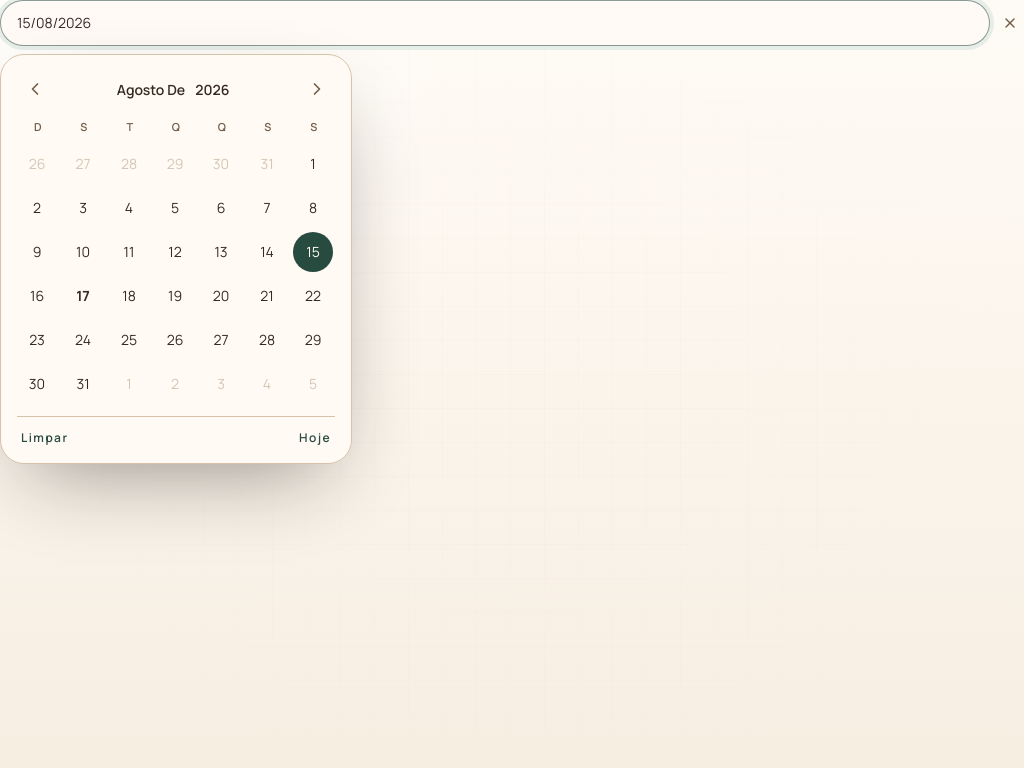
it: DatePickerField — interação real (jsdom) › navega pro próximo mês e pro mês anterior, atualizando o cabeçalho
The image size is (1024, 768).
Click the button named "Próximo mês" at (317,89), box [299,71,335,107]
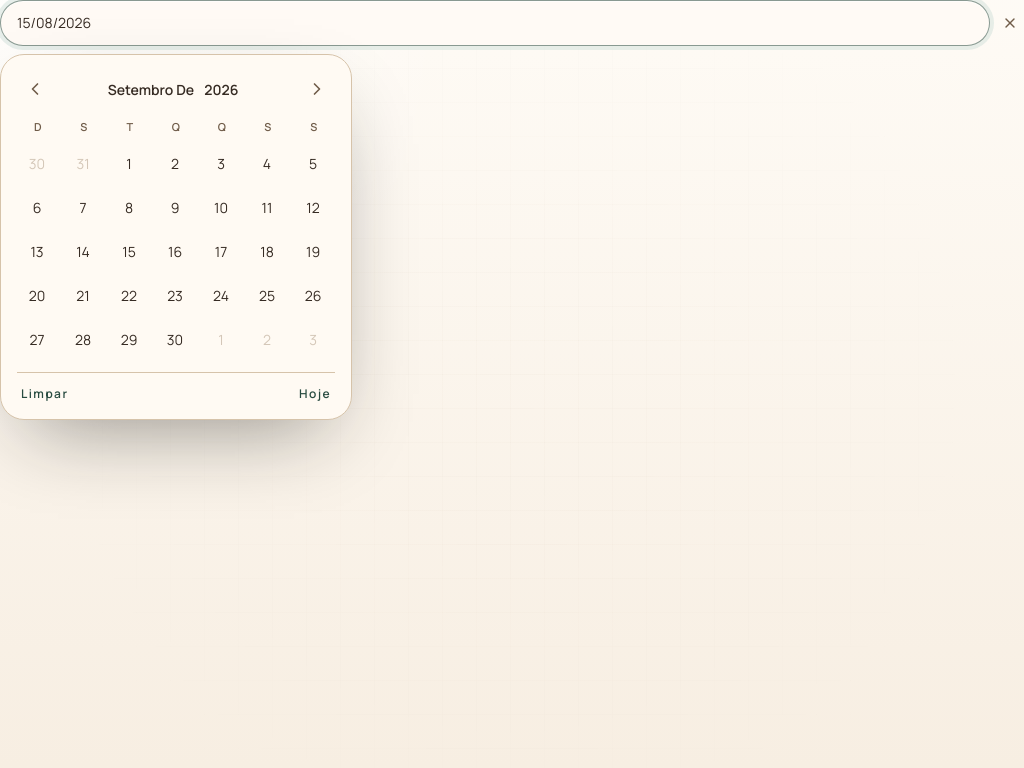
Check: the text with class "capitalize" reads "setembro de", box [108,80,194,98]
Click the button named "Mês anterior" at (35,89), box [17,71,53,107]
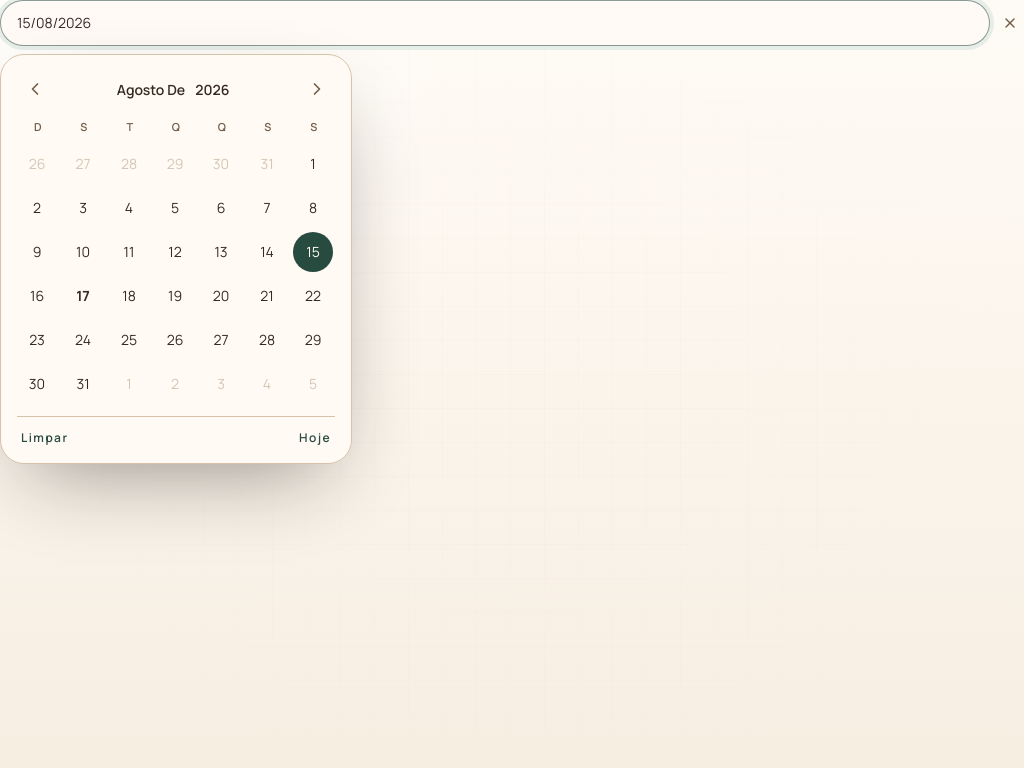
Click the button named "Mês anterior" at (35,89), box [17,71,53,107]
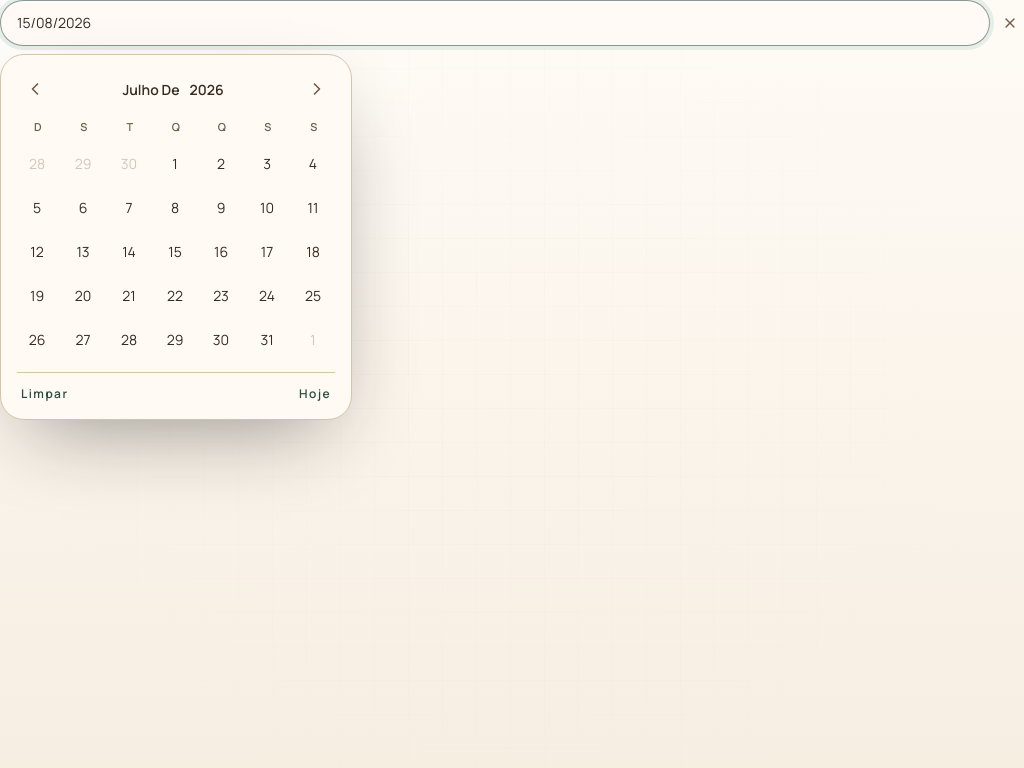
Check: the text with class "capitalize" reads "julho de", box [122,80,180,98]
